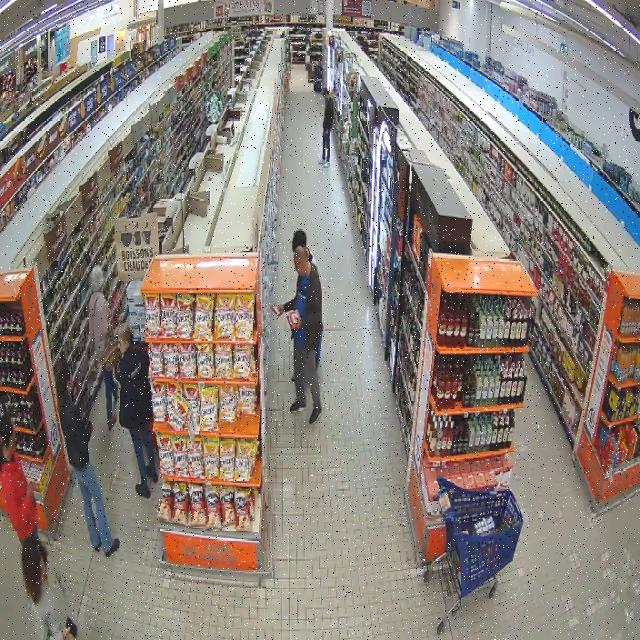article: (286, 312, 298, 329), (270, 302, 282, 317)
hands: (294, 314, 302, 329), (27, 483, 34, 500), (62, 627, 71, 639), (277, 305, 284, 315)
person: (55, 360, 119, 556), (275, 246, 322, 423), (115, 324, 157, 498), (0, 404, 43, 549), (22, 539, 76, 638), (88, 266, 116, 429), (319, 87, 334, 166), (292, 229, 316, 268)
